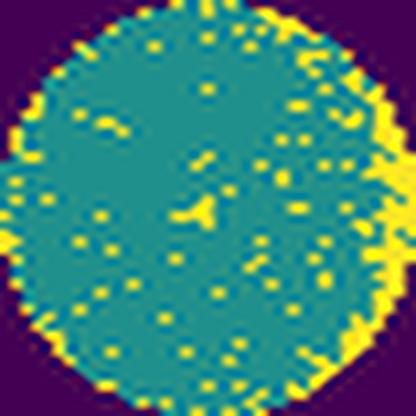Edge-Loc: (287, 58, 416, 398)
